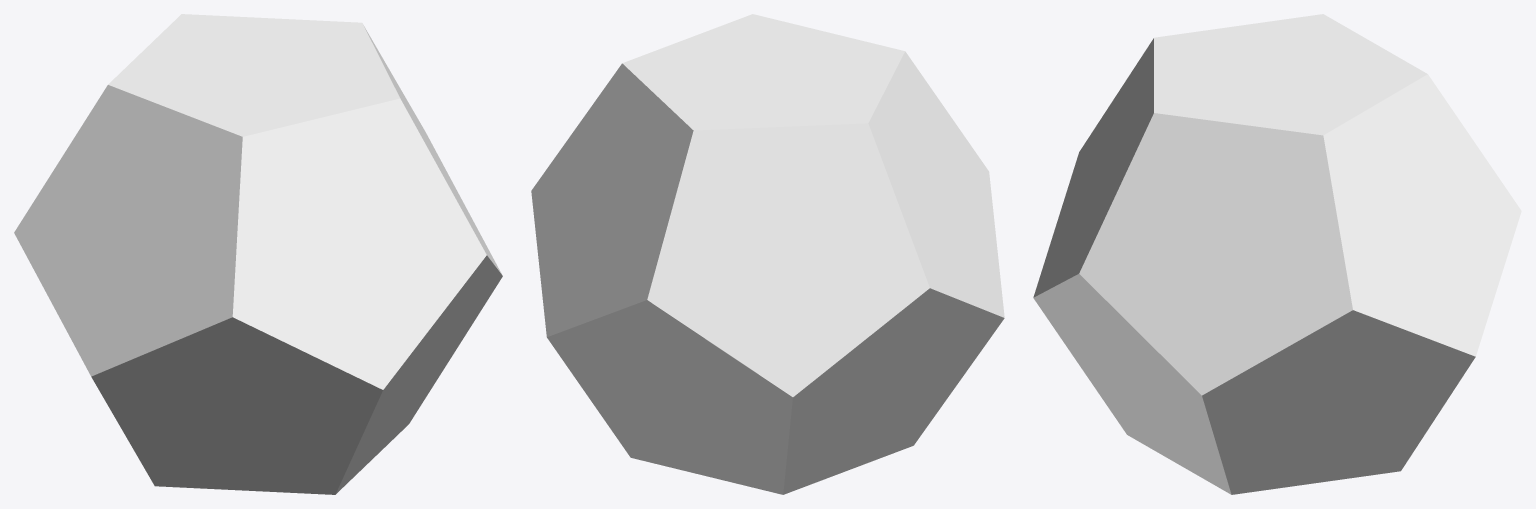
File: dtwelve.obj
The picture shows the model from 3 angles, left to right: view 1: azimuth 30°, elevation 25°; view 2: azimuth 150°, elevation 25°; view 3: azimuth 270°, elevation 25°; orthographic projection. The views are drawn at different scales.
Parts seen in each view (by area): view 1: 000_dtwelve; view 2: 000_dtwelve; view 3: 000_dtwelve.
Part boxes in pixels (left/top/right/bottom): 000_dtwelve: left=14, top=14, right=502, bottom=494; 000_dtwelve: left=531, top=14, right=1004, bottom=494; 000_dtwelve: left=1033, top=14, right=1521, bottom=494.
Size of the model in its own units: 0.69 by 0.59 by 0.724.
